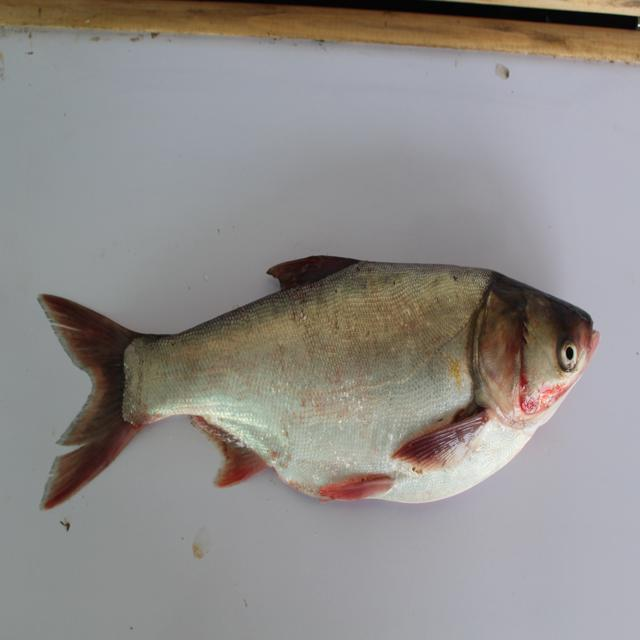SilverCarp: (23, 222, 597, 531)
